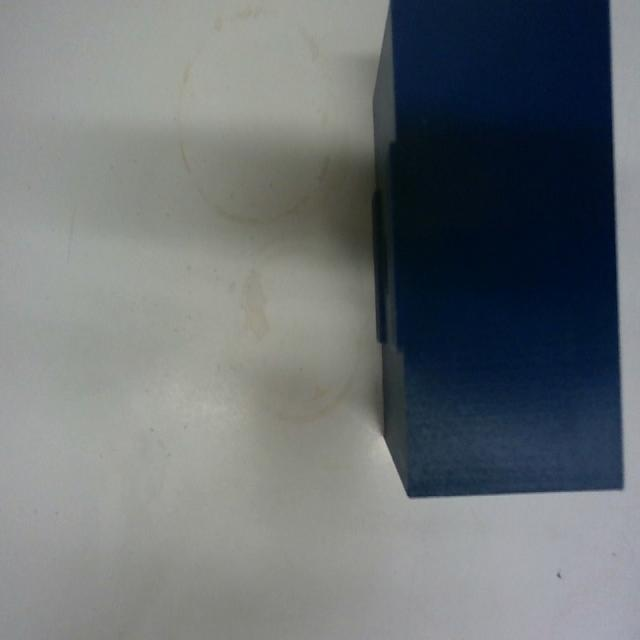Blue Cuboid: (368, 0, 624, 499)
